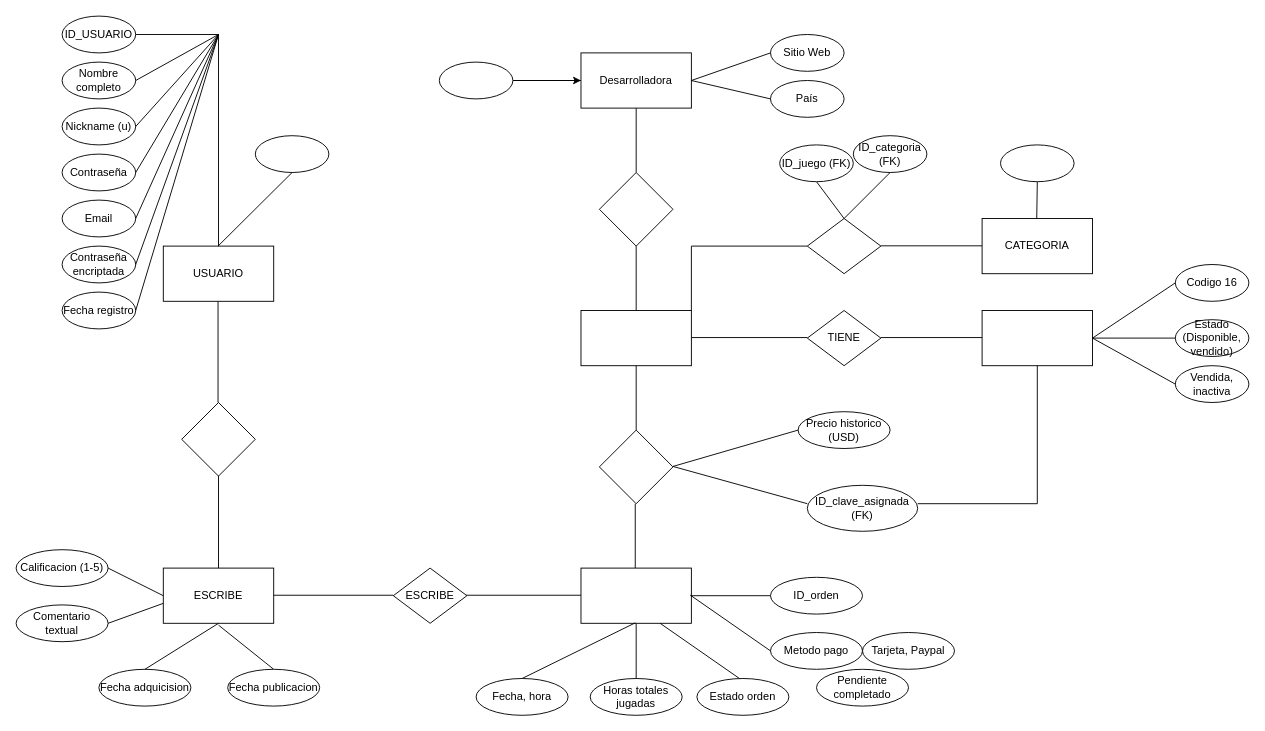
Image size: 1265x731. Some labels were removed from this diagram. Here are the shapes that lost their labels. From the top down, the centre of each, then its label:
At [475,80]: "ID Dev".
At [291,153]: "Rol".
At [1037,163]: "ID_categoria".
At [635,209]: "PUBLICA".
At [843,246]: "Pertenece".
At [635,338]: "JUEGO".
At [1036,338]: "CLAVE".
At [218,439]: "POSEE".
At [635,466]: "CONTIENE".
At [635,595]: "ORDEN".
